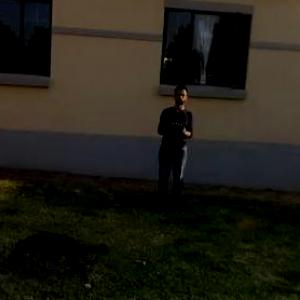follow: (154, 82, 195, 218)
null: (4, 224, 100, 286)
